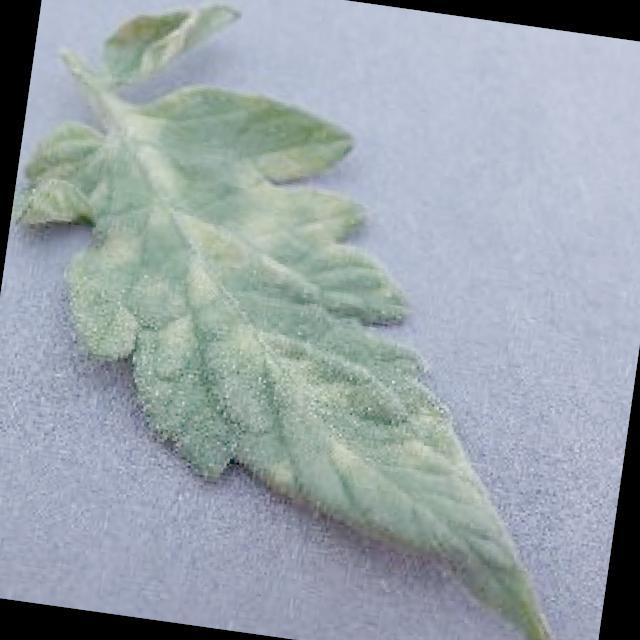Tomato mold leaf: (0, 59, 640, 640)
